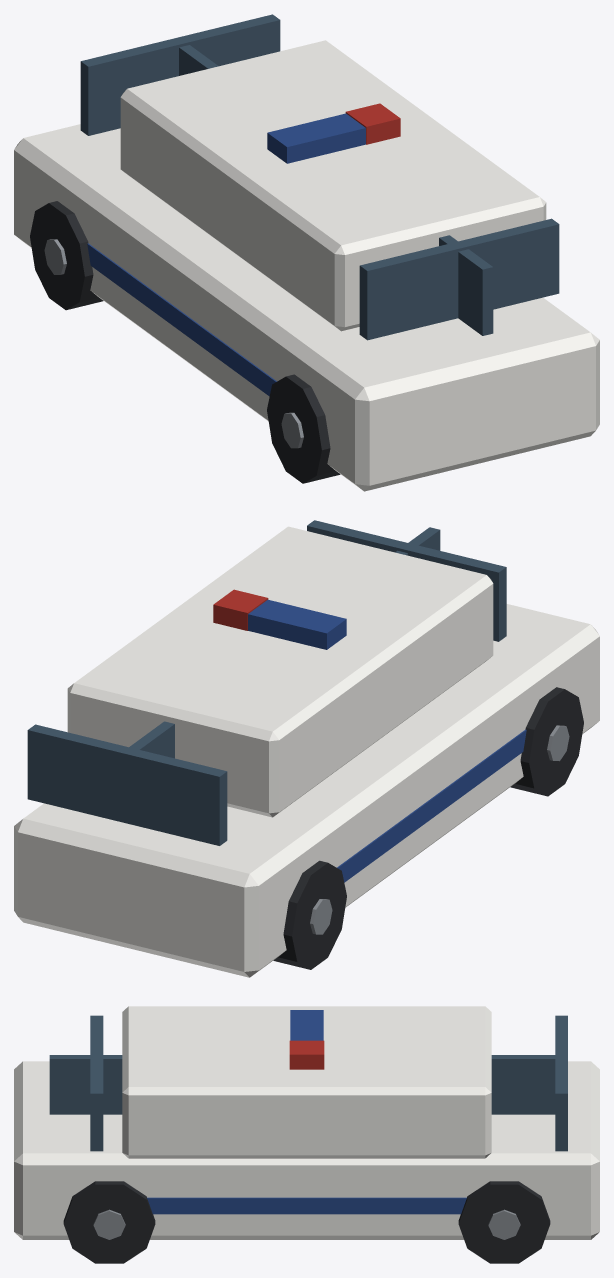
The model's file is vehicle.police-suv.glb.
3 renders of one model, top to bottom at view 1: azimuth 30°, elevation 25°; view 2: azimuth 150°, elevation 25°; view 3: azimuth 270°, elevation 25°, orthographic. The views are drawn at different scales.
Visible parts, largest first — view 1: vehicle.police-suv; view 2: vehicle.police-suv; view 3: vehicle.police-suv.
Part boxes in pixels (left/top/right/bottom): vehicle.police-suv: left=14, top=14, right=599, bottom=491; vehicle.police-suv: left=14, top=520, right=599, bottom=977; vehicle.police-suv: left=14, top=1006, right=599, bottom=1263.
Size of the model in its own units: 2.03 by 1.64 by 4.6.
